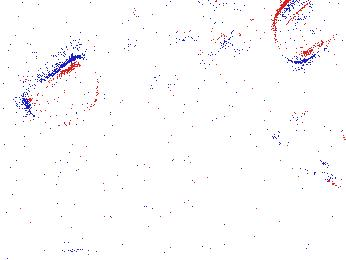moon jellyfish: (130, 1, 232, 79), (24, 57, 99, 126), (273, 111, 346, 181), (273, 1, 346, 63)
